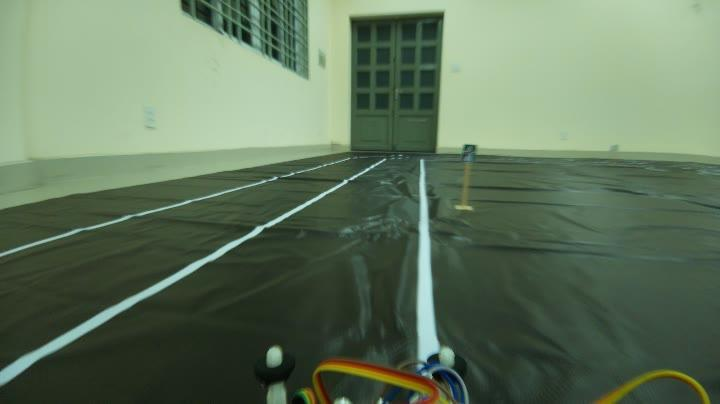highway_exit: (455, 138, 476, 166)
